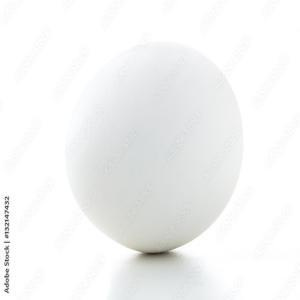Egg: (64, 39, 245, 255)
